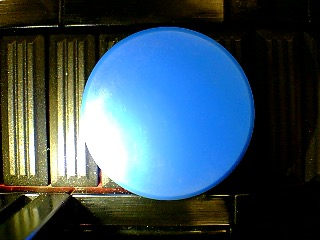BLANK: (79, 26, 255, 201)
